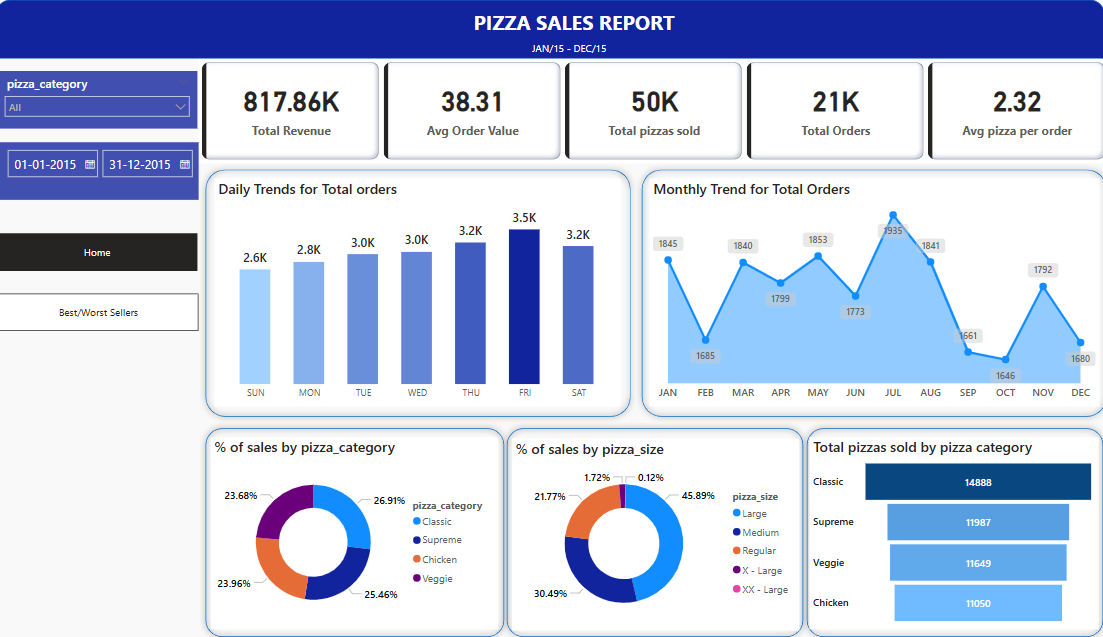

The page's visual inventory and layout, read from the dashboard file:
{"tool":"powerbi","page":{"name":"Home","canvas":[1506,990],"ordinal":0},"visuals":[{"type":"cardVisual","fields":{"Data":["project_db pizzasales.Total Revenue","project_db pizzasales.Avg Order Value","project_db pizzasales.Total pizzas sold","project_db pizzasales.Total Orders","project_db pizzasales.Avg pizza per order"]},"box":[281.4,90,1218.6,140],"z":0},{"type":"shape","box":[11.4,11.4,1478.6,78.6],"z":1000},{"type":"textbox","box":[622.9,18.6,318.6,50],"z":2000},{"type":"textbox","box":[721.4,61.4,122.9,28.6],"z":3000},{"type":"shape","box":[282.9,230,582.9,345.7],"z":4000},{"type":"columnChart","title":"Daily Trends for Total orders","fields":{"Category":["project_db pizzasales.Order Day"],"Y":["project_db pizzasales.Total Orders"]},"box":[302.9,250,541.4,304.3],"z":5000},{"type":"shape","box":[864.3,230,635.7,345.7],"z":6000},{"type":"areaChart","title":"Monthly Trend for Total Orders","fields":{"Category":["project_db pizzasales.Order Month"],"Y":["project_db pizzasales.Total Orders"]},"box":[882.9,250,600,304.3],"z":7000},{"type":"shape","box":[282.9,575.7,414.3,294.3],"z":8000},{"type":"shape","box":[685.7,575.7,411.4,294.3],"z":9000},{"type":"shape","box":[1085.7,575.7,411.4,294.3],"z":10000},{"type":"donutChart","title":"% of sales by pizza_category","fields":{"Category":["project_db pizzasales.pizza_category"],"Y":["project_db pizzasales.Total Revenue"]},"box":[298.6,595.7,382.9,255.7],"z":11000},{"type":"donutChart","title":"% of sales by pizza_size","fields":{"Y":["project_db pizzasales.Total Revenue"],"Category":["project_db pizzasales.pizza_size"]},"box":[700,597.1,382.9,255.7],"z":12000},{"type":"funnel","title":"Total pizzas sold by pizza category","fields":{"Category":["project_db pizzasales.pizza_category"],"Y":["project_db pizzasales.Total pizzas sold"]},"box":[1097.1,595.7,385.7,255.7],"z":13000},{"type":"slicer","fields":{"Values":["project_db pizzasales.pizza_category"]},"box":[12.9,107.1,267.1,77.1],"z":14000},{"type":"slicer","fields":{"Values":["project_db pizzasales.order_date"]},"box":[14.3,201.4,267.1,77.1],"z":15000},{"type":"pageNavigator","box":[12.9,322.9,267.1,50],"z":16000},{"type":"pageNavigator","box":[15.7,402.9,267.1,50],"z":17000}]}

Visuals, with their boxes on the page's 1506x990 design canvas (x1, y1, x2, y2). These are canvas units, not pixel positions in the 1103x637 screenshot, which may show the page scaled, cropped or inside an application window:
cardVisual - project_db pizzasales.Total Revenue x project_db pizzasales.Avg Order Value: left=281, top=90, right=1500, bottom=230
shape: left=11, top=11, right=1490, bottom=90
textbox: left=623, top=19, right=942, bottom=69
textbox: left=721, top=61, right=844, bottom=90
shape: left=283, top=230, right=866, bottom=576
"Daily Trends for Total orders" columnChart: left=303, top=250, right=844, bottom=554
shape: left=864, top=230, right=1500, bottom=576
"Monthly Trend for Total Orders" areaChart: left=883, top=250, right=1483, bottom=554
shape: left=283, top=576, right=697, bottom=870
shape: left=686, top=576, right=1097, bottom=870
shape: left=1086, top=576, right=1497, bottom=870
"% of sales by pizza_category" donutChart: left=299, top=596, right=682, bottom=851
"% of sales by pizza_size" donutChart: left=700, top=597, right=1083, bottom=853
"Total pizzas sold by pizza category" funnel: left=1097, top=596, right=1483, bottom=851
slicer - project_db pizzasales.pizza_category: left=13, top=107, right=280, bottom=184
slicer - project_db pizzasales.order_date: left=14, top=201, right=281, bottom=278
pageNavigator: left=13, top=323, right=280, bottom=373
pageNavigator: left=16, top=403, right=283, bottom=453
